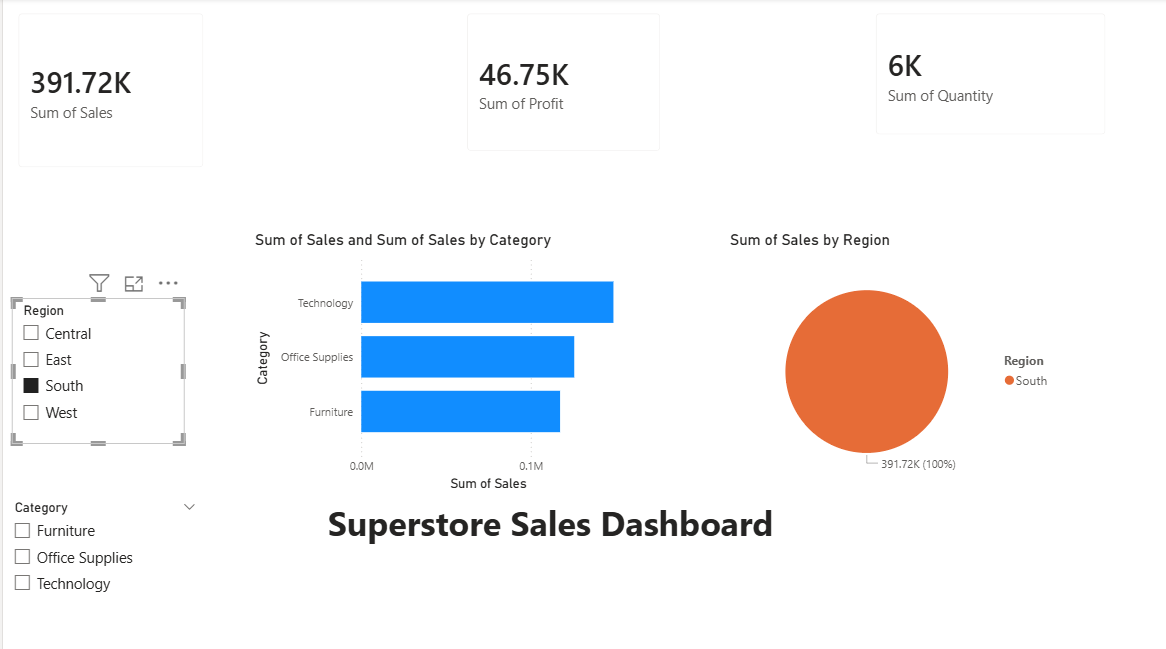

The dashboard page shown, as its layout file describes it:
{"tool":"powerbi","page":{"name":"Page 1","canvas":[1280,720],"ordinal":0},"visuals":[{"type":"cardVisual","fields":{"Data":["Sum(SampleSuperstore.Sales)"]},"box":[0,0,237.4,203.1],"z":0},{"type":"cardVisual","fields":{"Data":["Sum(SampleSuperstore.Profit)"]},"box":[492.6,0,247,185.2],"z":1000},{"type":"cardVisual","fields":{"Data":["Sum(SampleSuperstore.Quantity)"]},"box":[941.3,0,286.8,167.4],"z":2000},{"type":"barChart","fields":{"Y":["Sum(SampleSuperstore.Sales)","Sum(SampleSuperstore.Sales)"],"Category":["SampleSuperstore.Category"]},"box":[271.7,255.2,419.9,290.9],"z":3000},{"type":"pieChart","fields":{"Category":["SampleSuperstore.Region"],"Y":["Sum(SampleSuperstore.Sales)"]},"box":[793.1,255.2,374.6,290.9],"z":3001},{"type":"slicer","fields":{"Values":["SampleSuperstore.Region"]},"box":[9.6,329.3,189.4,160.5],"z":3002},{"type":"slicer","fields":{"Values":["SampleSuperstore.Category"]},"box":[0,546.1,223.7,174.3],"z":3003},{"type":"textbox","box":[271.7,546.1,658.7,60.4],"z":3004}]}

Visuals, with their boxes in screenshot pixels (x1, y1, x2, y2), scaled from the page's 1280x720 canvas onto the 1166x649 screenshot:
cardVisual - Sum(SampleSuperstore.Sales): bbox=(0, 0, 216, 183)
cardVisual - Sum(SampleSuperstore.Profit): bbox=(449, 0, 674, 167)
cardVisual - Sum(SampleSuperstore.Quantity): bbox=(857, 0, 1119, 151)
barChart - Sum(SampleSuperstore.Sales) x Sum(SampleSuperstore.Sales): bbox=(248, 230, 630, 492)
pieChart - SampleSuperstore.Region x Sum(SampleSuperstore.Sales): bbox=(722, 230, 1064, 492)
slicer - SampleSuperstore.Region: bbox=(9, 297, 181, 442)
slicer - SampleSuperstore.Category: bbox=(0, 492, 204, 648)
textbox: bbox=(248, 492, 848, 547)
